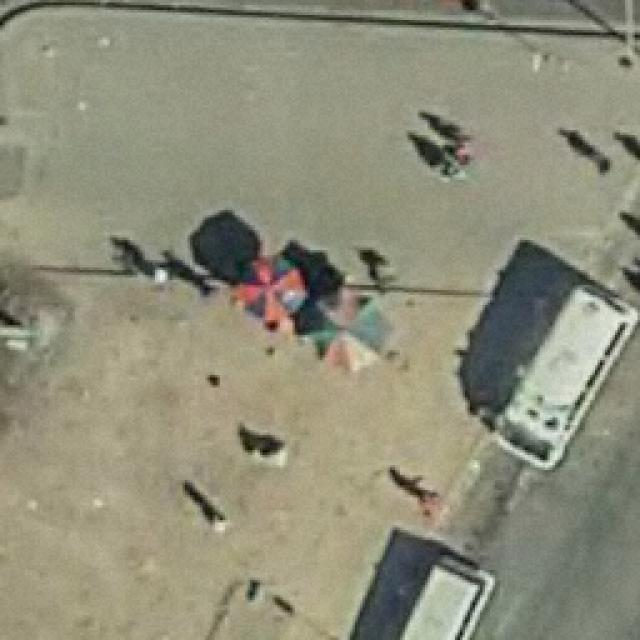vendedor_ambulante: (304, 286, 401, 372), (228, 244, 310, 322)
